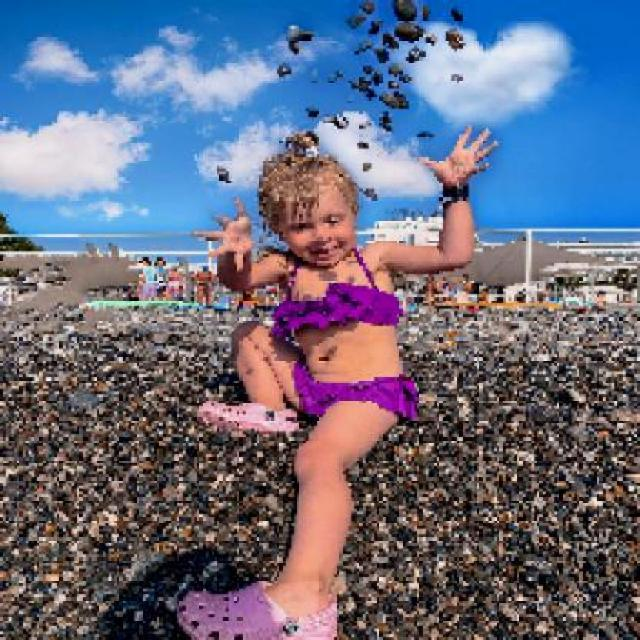child: (174, 120, 503, 637)
